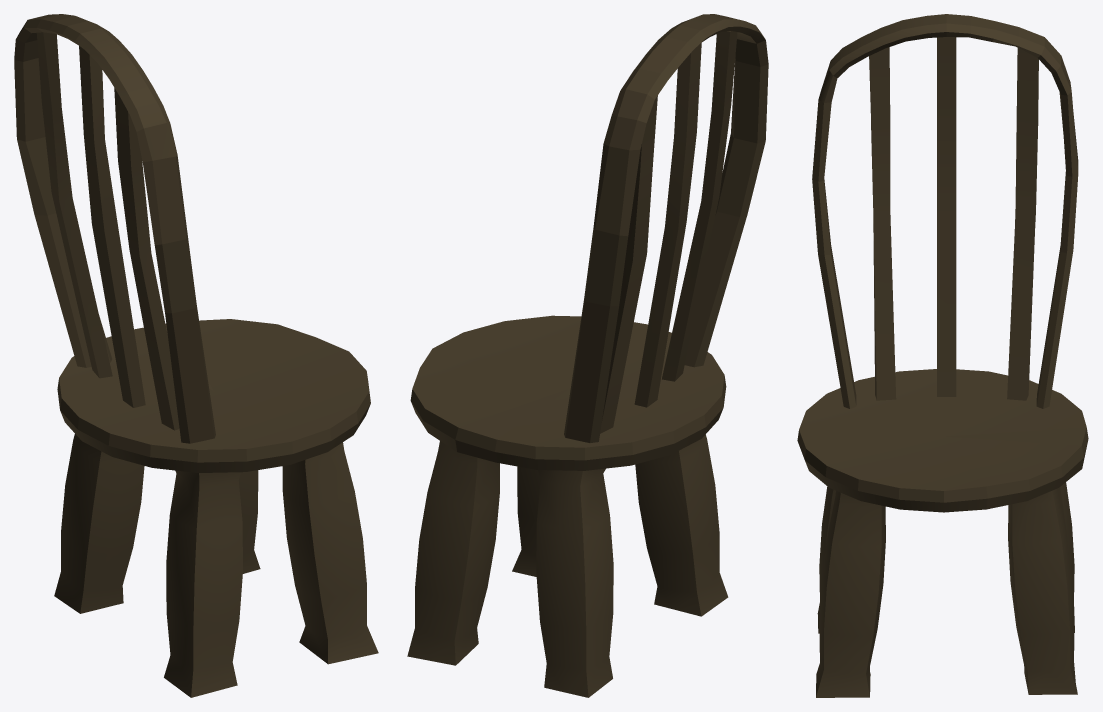
Rendered from ChairBasicNormal.glb.
The picture shows the model from 3 angles, left to right: view 1: azimuth 30°, elevation 25°; view 2: azimuth 150°, elevation 25°; view 3: azimuth 270°, elevation 25°; orthographic projection. The views are drawn at different scales.
Visible parts, largest first — view 1: pCylinder1, polySurface3, BackupLeg, BackupLeg2, BackupLeg1, restpole2, restpole3, restpole1, BackupLeg3; view 2: pCylinder1, polySurface3, BackupLeg1, BackupLeg3, BackupLeg, restpole2, restpole3, restpole1, BackupLeg2; view 3: pCylinder1, polySurface3, BackupLeg2, BackupLeg3, restpole1, restpole2, restpole3, BackupLeg, BackupLeg1.
Part boxes in pixels (left/top/right/bottom): pCylinder1: left=57, top=319, right=370, bottom=472; polySurface3: left=14, top=14, right=215, bottom=443; BackupLeg: left=164, top=470, right=242, bottom=697; BackupLeg2: left=282, top=442, right=378, bottom=664; BackupLeg1: left=54, top=434, right=144, bottom=613; restpole2: left=79, top=46, right=145, bottom=407; restpole3: left=114, top=88, right=179, bottom=430; restpole1: left=36, top=32, right=112, bottom=378; BackupLeg3: left=238, top=470, right=260, bottom=573; pCylinder1: left=410, top=315, right=726, bottom=470; polySurface3: left=564, top=14, right=768, bottom=442; BackupLeg1: left=536, top=468, right=613, bottom=697; BackupLeg3: left=407, top=441, right=499, bottom=665; BackupLeg: left=635, top=434, right=728, bottom=616; restpole2: left=634, top=43, right=701, bottom=407; restpole3: left=662, top=31, right=737, bottom=381; restpole1: left=600, top=95, right=657, bottom=433; BackupLeg2: left=512, top=466, right=540, bottom=576; pCylinder1: left=797, top=369, right=1088, bottom=512; polySurface3: left=812, top=14, right=1078, bottom=408; BackupLeg2: left=816, top=491, right=885, bottom=697; BackupLeg3: left=1008, top=488, right=1077, bottom=694; restpole1: left=1007, top=48, right=1038, bottom=400; restpole2: left=937, top=37, right=956, bottom=396; restpole3: left=869, top=47, right=896, bottom=400; BackupLeg: left=817, top=486, right=835, bottom=633; BackupLeg1: left=1058, top=482, right=1074, bottom=632.
Bounding box in the file's own units: 22.34 × 48.51 × 22.05.
